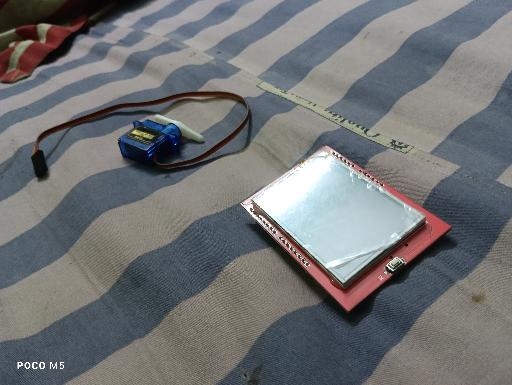Display: (238, 142, 454, 315)
Motor: (117, 111, 205, 169)
